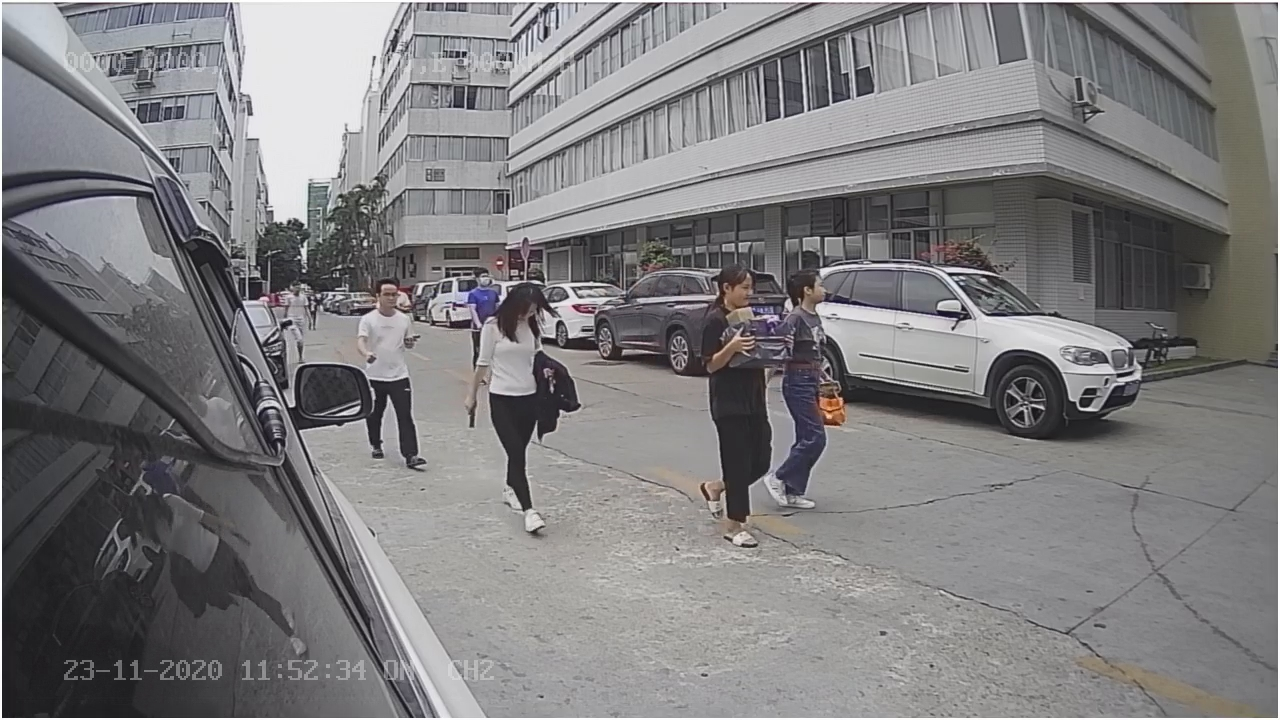person: (703, 257, 778, 544), (481, 278, 562, 524)
